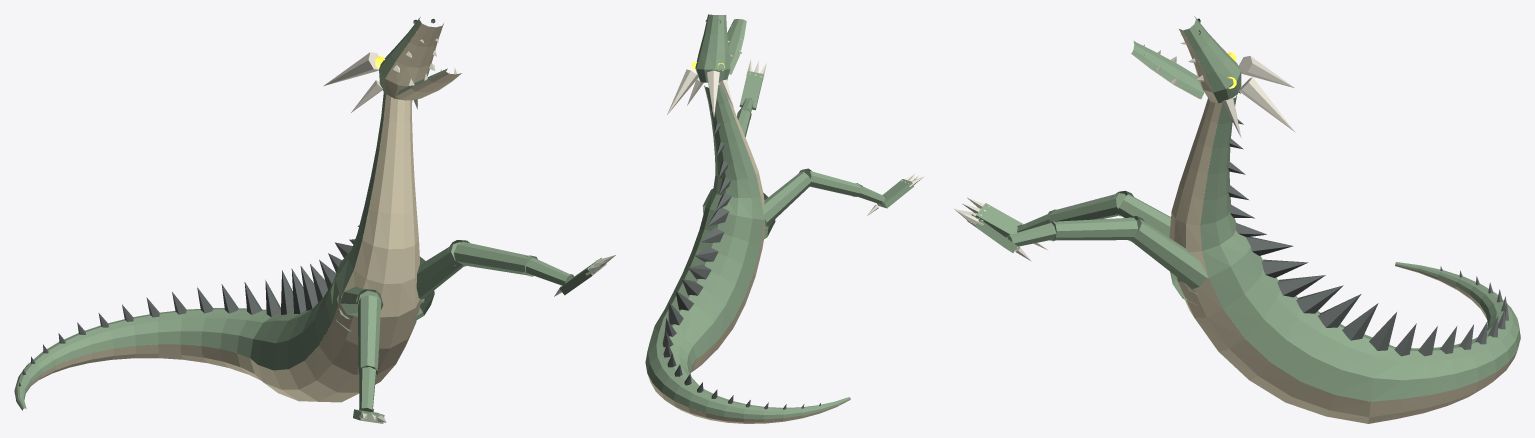
The model's file is dragons-and-wyverns-lindworm-rearing-7720bdc2__36733.glb.
3 renders of one model, left to right at view 1: azimuth 30°, elevation 25°; view 2: azimuth 150°, elevation 25°; view 3: azimuth 270°, elevation 25°, orthographic. The views are drawn at different scales.
Parts seen in each view (by area): view 1: lindworm-rearing; view 2: lindworm-rearing; view 3: lindworm-rearing.
Boxes of the visible parts, left/top/right/bottom form: lindworm-rearing: left=14, top=17, right=615, bottom=423; lindworm-rearing: left=645, top=14, right=923, bottom=423; lindworm-rearing: left=953, top=16, right=1520, bottom=423.
Bounding box in the file's own units: 2.39 × 2.7 × 3.3.
